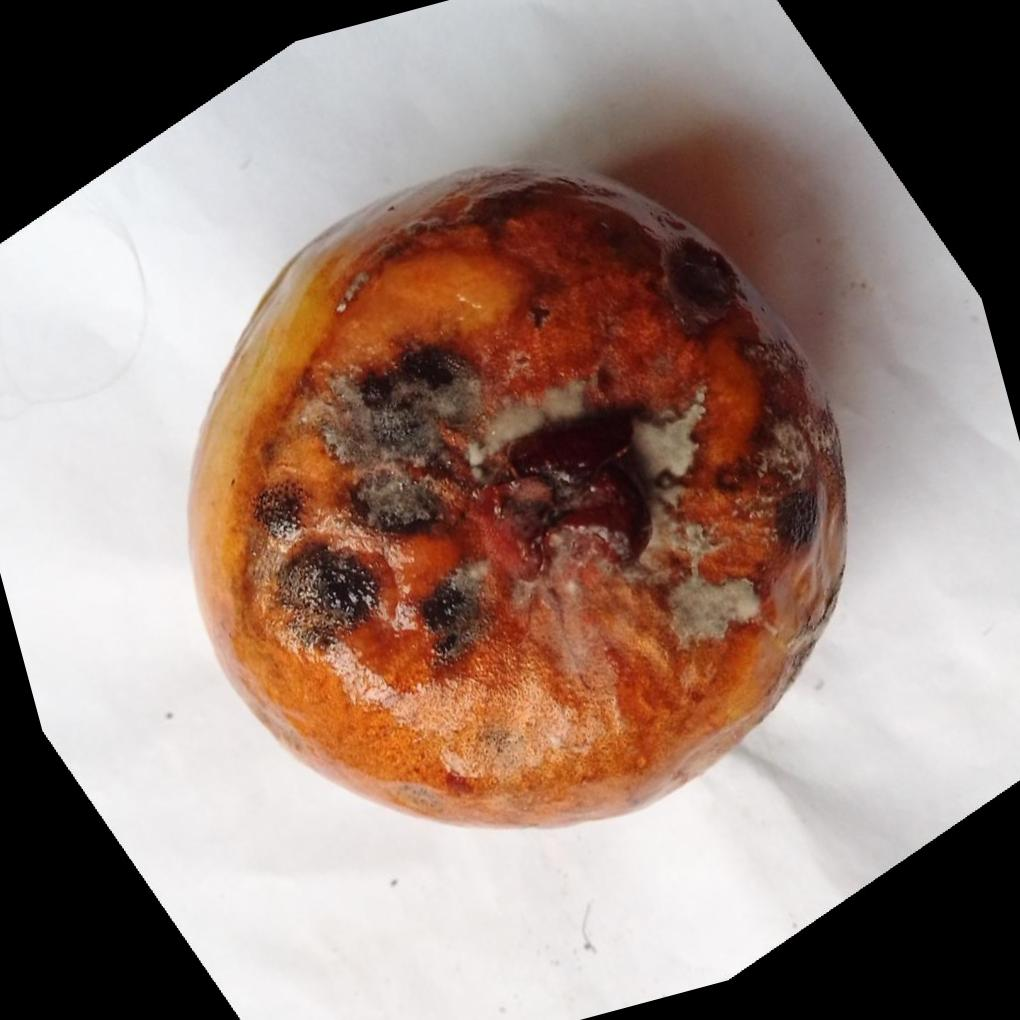FreshOrange: (184, 160, 848, 827)
